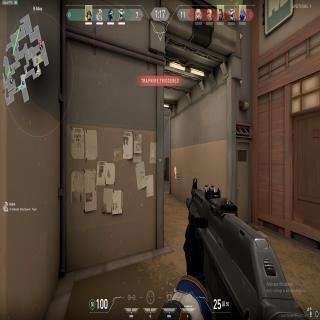ENEMY-BODY: (174, 164, 177, 178)
ENEMY-HEAD: (175, 166, 176, 168)
